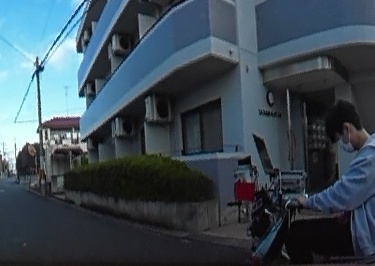person: (283, 104, 375, 263)
